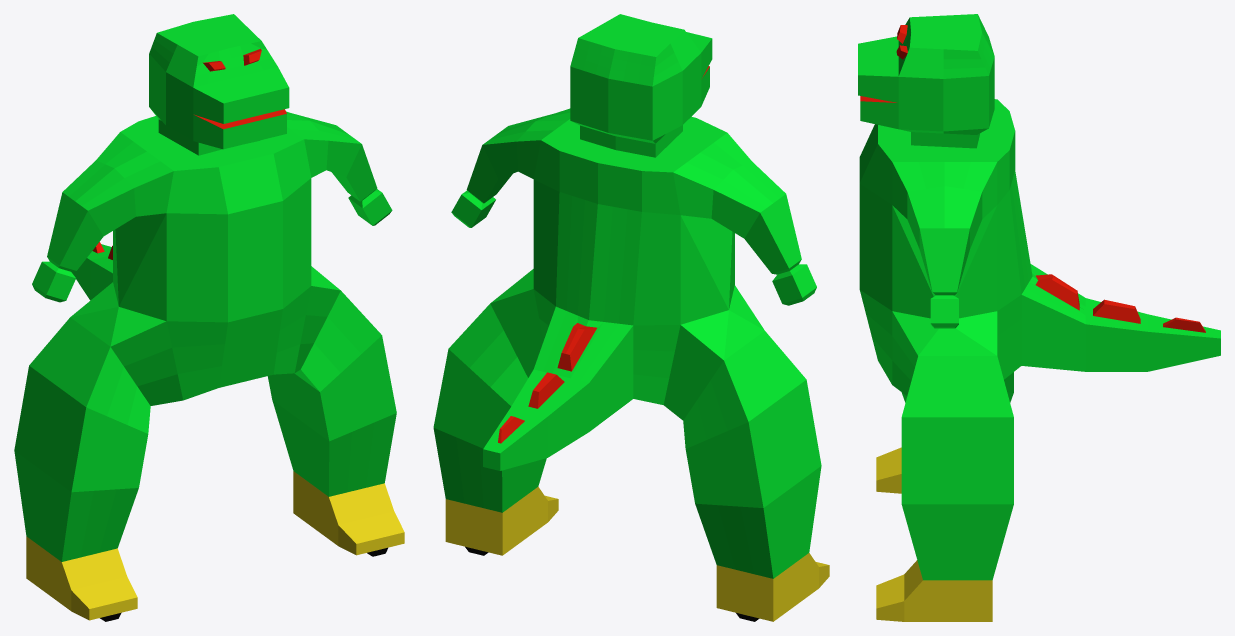
The model's file is lizardV1.fbx.
The picture shows the model from 3 angles, left to right: view 1: azimuth 30°, elevation 25°; view 2: azimuth 150°, elevation 25°; view 3: azimuth 270°, elevation 25°; orthographic projection. The views are drawn at different scales.
Parts seen in each view (by area): view 1: Cube; view 2: Cube; view 3: Cube.
Part boxes in pixels (x1,y1,x2,y2): Cube: [14, 14, 404, 621]; Cube: [433, 14, 829, 621]; Cube: [858, 14, 1220, 621].
Bounding box in the file's own units: 651 × 950 × 602.
